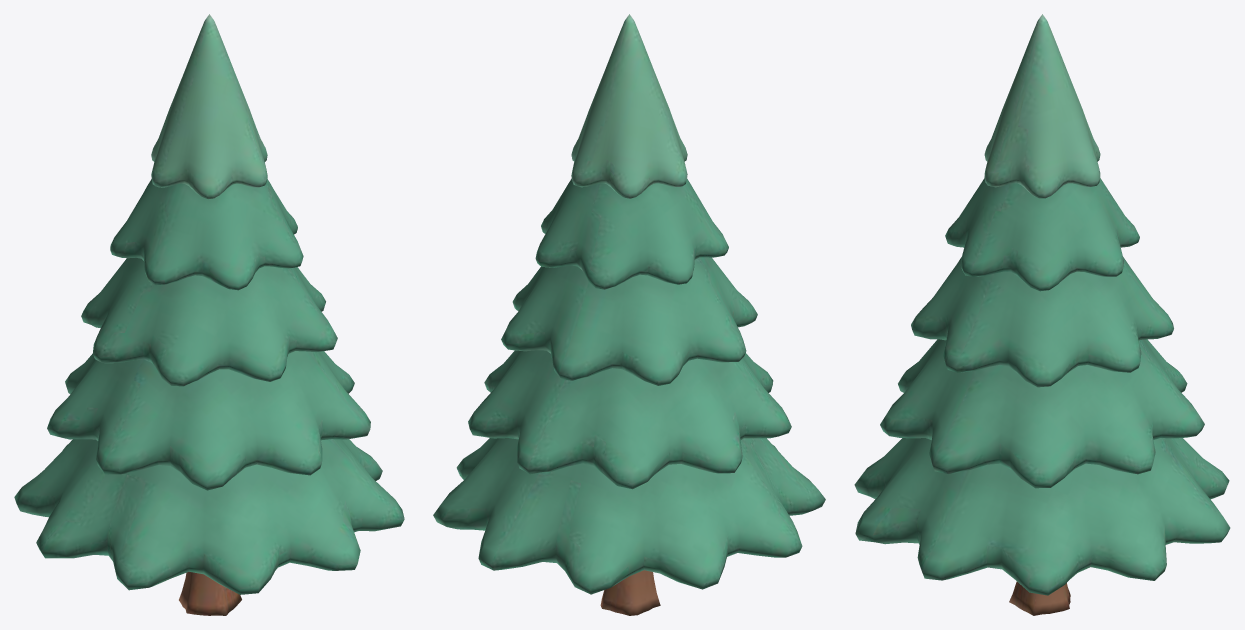
File: pine.glb
3 views of the same model, side by side, from view 1: azimuth 30°, elevation 25°; view 2: azimuth 150°, elevation 25°; view 3: azimuth 270°, elevation 25° (orthographic).
Parts seen in each view (by area): view 1: pine-tree_body; view 2: pine-tree_body; view 3: pine-tree_body.
Boxes of the visible parts, x1,y1,x2,y2 form: pine-tree_body: [14, 14, 404, 615]; pine-tree_body: [433, 14, 825, 615]; pine-tree_body: [854, 14, 1230, 615].
Size of the model in its own units: 3.45 by 5.7 by 3.3.
1 material, 1 textured.
